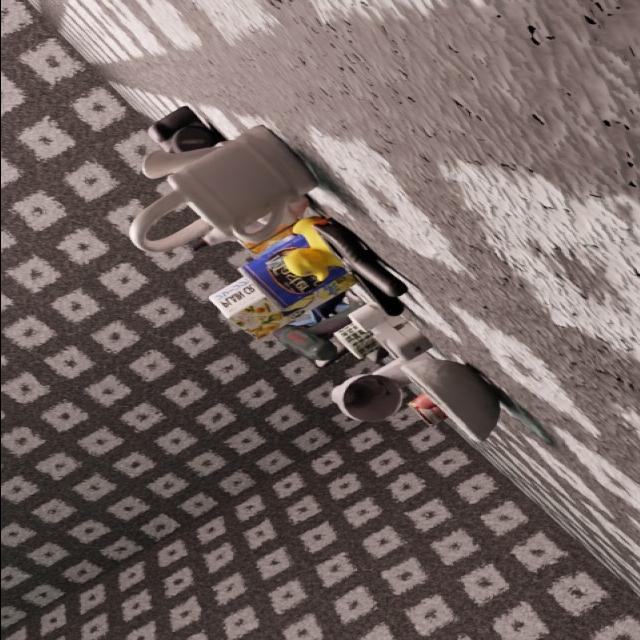Other Objects: (128, 126, 315, 250), (208, 233, 353, 336), (313, 218, 405, 315), (400, 353, 499, 442), (311, 221, 404, 296), (348, 301, 431, 362), (283, 217, 341, 280), (147, 106, 220, 152), (141, 142, 225, 178), (128, 219, 209, 251), (348, 303, 397, 330), (339, 337, 363, 356)
